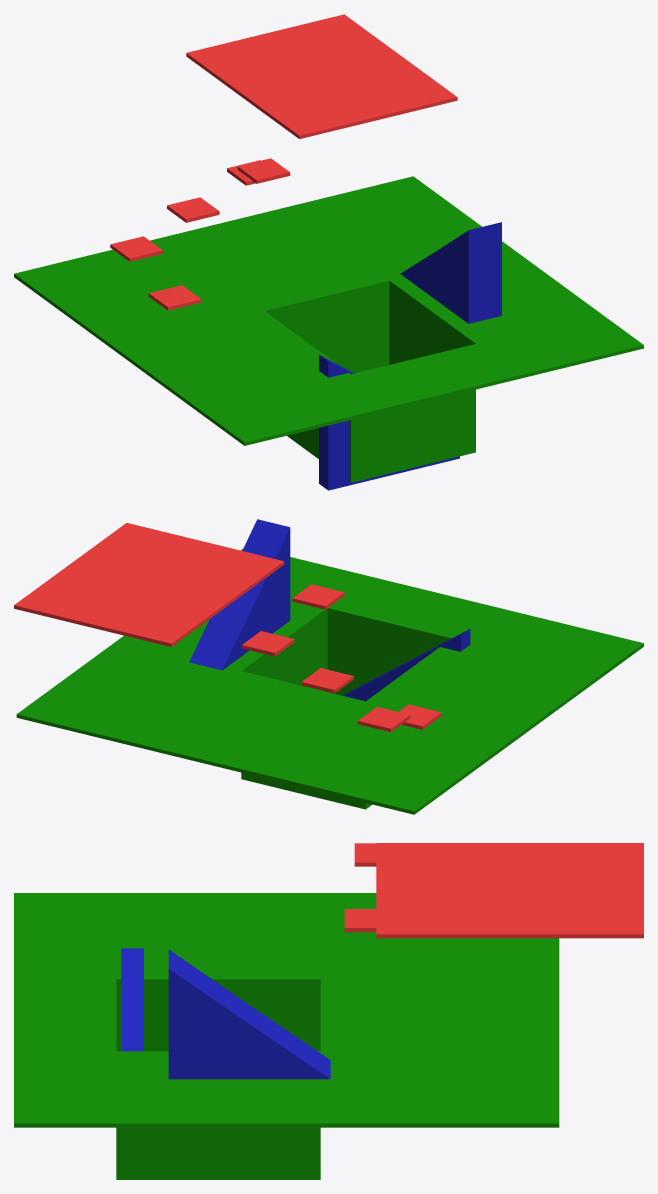
Rendered from physbox.glb.
3 views of the same model, one above another, from view 1: azimuth 30°, elevation 25°; view 2: azimuth 150°, elevation 25°; view 3: azimuth 270°, elevation 25° (orthographic). The views are drawn at different scales.
Visible parts, largest first — view 1: Cube.008, Cube.005, Cube.009, Cube.010, Cube.004, Cube.001, Cube.002, Cube; view 2: Cube.008, Cube.005, Cube.009, Cube.010, Cube.003, Cube.004, Cube.002, Cube, Cube.001; view 3: Cube.008, Cube.005, Cube.009, Cube.010, Cube.001, Cube.004.
Boxes of the visible parts, left/top/right/bottom form: Cube.008: left=14, top=176, right=643, bottom=482; Cube.005: left=186, top=14, right=457, bottom=138; Cube.009: left=400, top=222, right=501, bottom=323; Cube.010: left=319, top=355, right=459, bottom=490; Cube.004: left=237, top=158, right=290, bottom=183; Cube.001: left=148, top=285, right=201, bottom=310; Cube.002: left=167, top=197, right=219, bottom=222; Cube: left=110, top=236, right=162, bottom=261; Cube.008: left=16, top=548, right=643, bottom=814; Cube.005: left=14, top=523, right=284, bottom=646; Cube.009: left=189, top=519, right=290, bottom=670; Cube.010: left=342, top=629, right=470, bottom=701; Cube.003: left=242, top=631, right=294, bottom=656; Cube.004: left=292, top=584, right=344, bottom=609; Cube.002: left=301, top=668, right=353, bottom=693; Cube: left=358, top=707, right=410, bottom=732; Cube.001: left=398, top=704, right=441, bottom=729; Cube.008: left=14, top=893, right=559, bottom=1179; Cube.005: left=376, top=843, right=643, bottom=938; Cube.009: left=168, top=949, right=330, bottom=1079; Cube.010: left=121, top=948, right=143, bottom=1051; Cube.001: left=344, top=909, right=376, bottom=932; Cube.004: left=354, top=843, right=376, bottom=866.
Size of the model in its own units: 120 by 73.68 by 139.
Materials: 9 (9 with a texture image).
